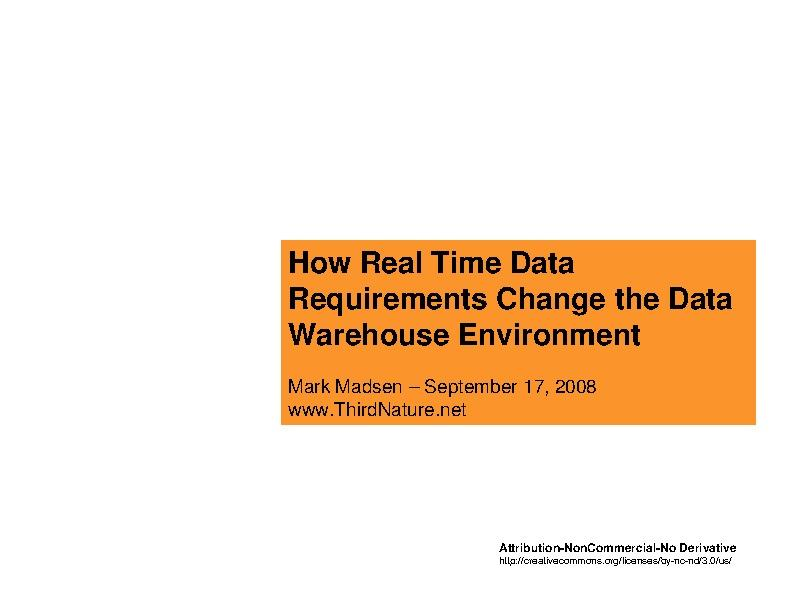title: (286, 237, 763, 429)
